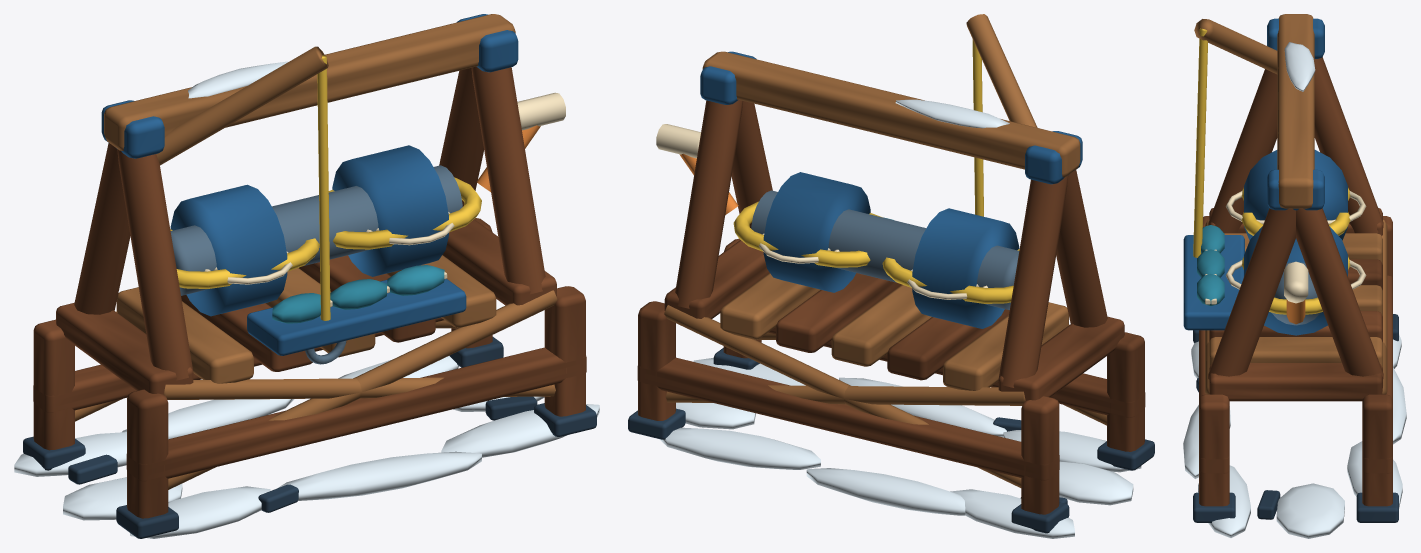
Rendered from fishing_rack.glb.
The picture shows the model from 3 angles, left to right: view 1: azimuth 30°, elevation 25°; view 2: azimuth 150°, elevation 25°; view 3: azimuth 270°, elevation 25°; orthographic projection. The views are drawn at different scales.
Parts seen in each view (by area): view 1: fishing_rack; view 2: fishing_rack; view 3: fishing_rack.
Part boxes in pixels (box(x1,y1,x2,y2)): fishing_rack: box(14, 14, 599, 538); fishing_rack: box(628, 14, 1154, 538); fishing_rack: box(1183, 14, 1406, 538).
Size of the model in its own units: 3.02 by 2.59 by 1.31.
